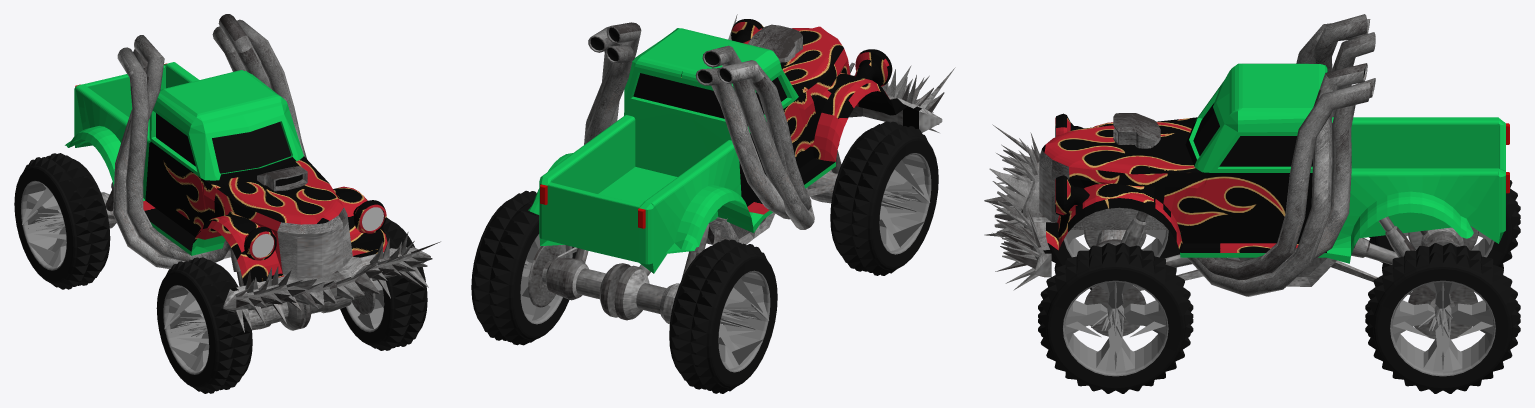
File: monster.obj
3 renders of one model, left to right at view 1: azimuth 30°, elevation 25°; view 2: azimuth 150°, elevation 25°; view 3: azimuth 270°, elevation 25°, orthographic. The views are drawn at different scales.
Visible parts, largest first — view 1: Cube, Circle.004, Circle.003, Circle.001; view 2: Cube, Circle.004, Circle.003, Circle.002; view 3: Cube, Circle.002, Circle.001, Circle.004, Circle.003.
Part boxes in pixels (x1=…): Cube: x1=65, y1=14, x2=440, y2=332; Circle.004: x1=14, y1=153, x2=110, y2=289; Circle.003: x1=156, y1=257, x2=252, y2=393; Circle.001: x1=340, y1=217, x2=427, y2=350; Cube: x1=528, y1=14, x2=955, y2=324; Circle.004: x1=669, y1=239, x2=777, y2=393; Circle.003: x1=830, y1=121, x2=938, y2=275; Circle.002: x1=471, y1=190, x2=576, y2=345; Cube: x1=984, y1=14, x2=1509, y2=339; Circle.002: x1=1365, y1=243, x2=1520, y2=393; Circle.001: x1=1038, y1=243, x2=1193, y2=393; Circle.004: x1=1369, y1=180, x2=1520, y2=268; Circle.003: x1=1049, y1=230, x2=1179, y2=289.
Bounding box in the file's own units: 5.22 × 5.32 × 8.62.
